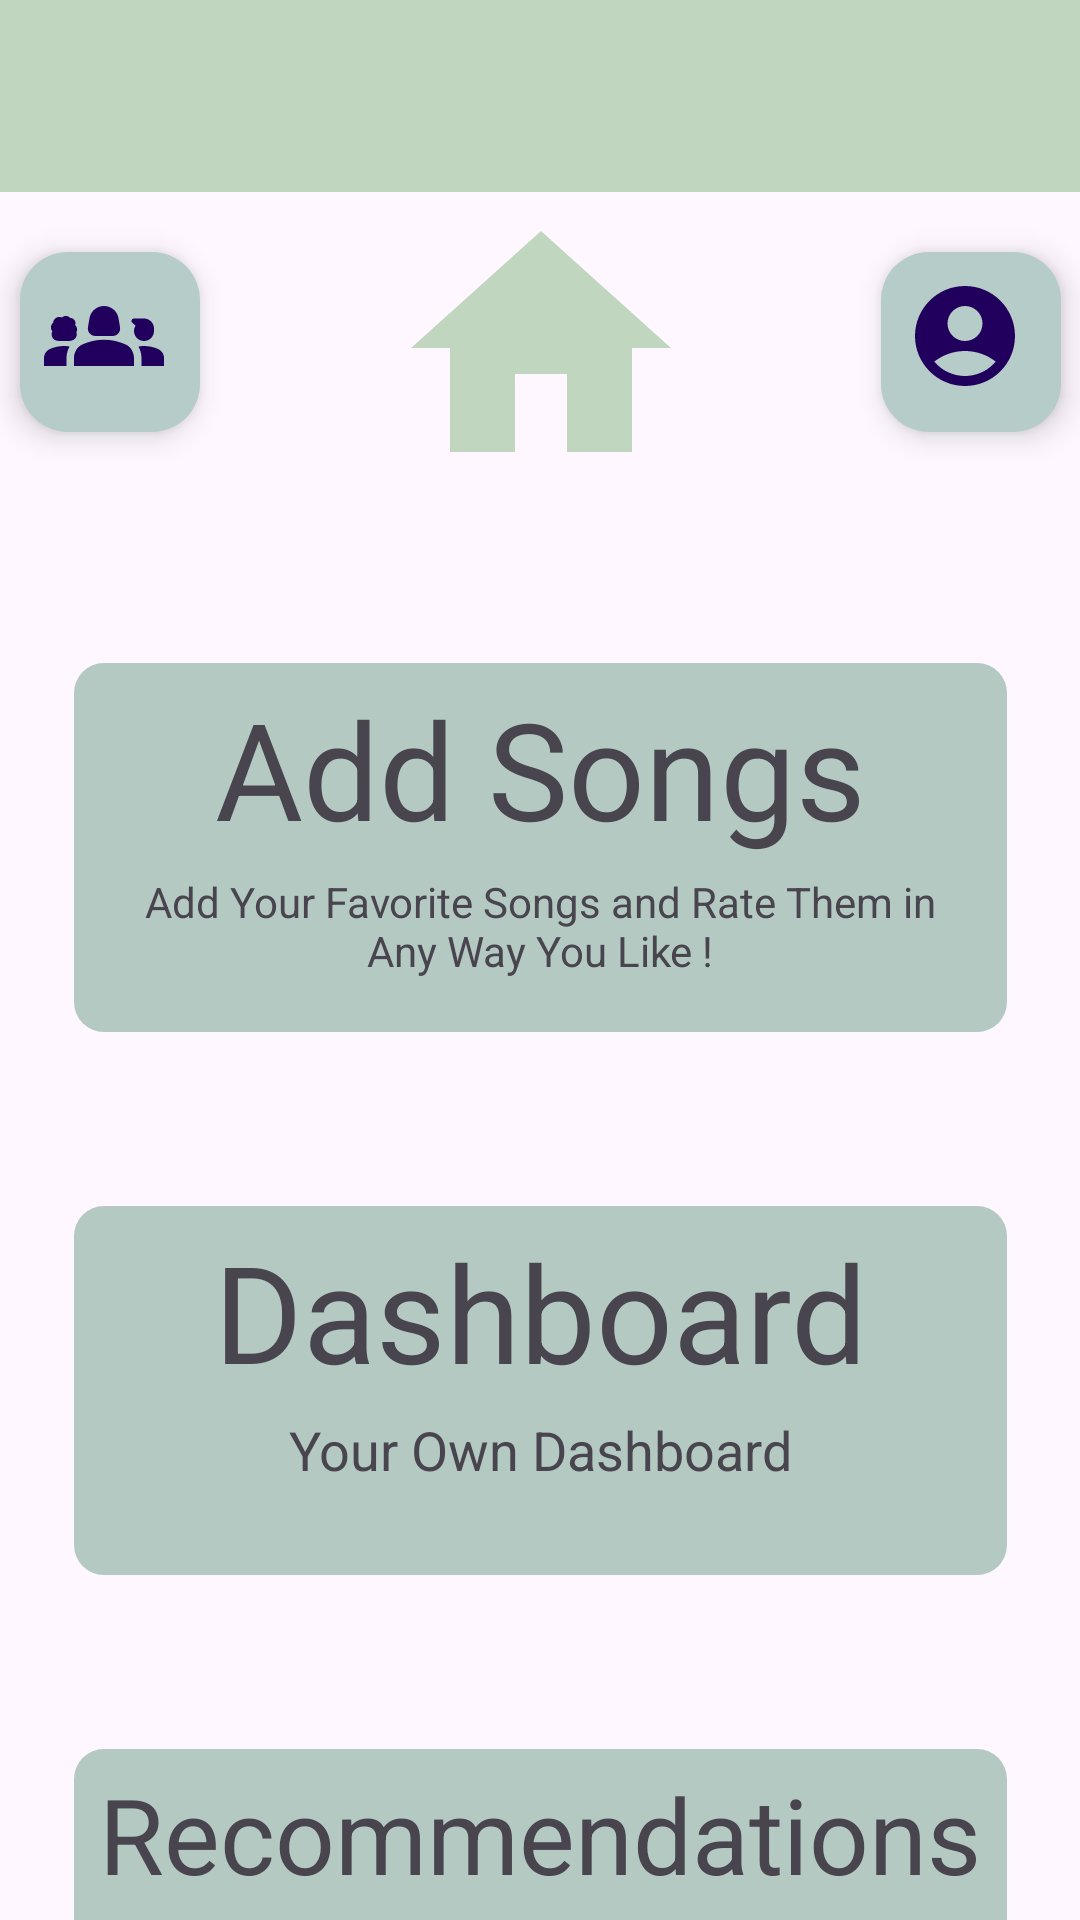

Named icons in this screenshot (1080x1920) and their bounding boxes, (x1, y1, x2, y2):
Friends Button: (20, 252, 200, 432)
home: (411, 231, 671, 452)
Profile Button: (881, 252, 1061, 432)
